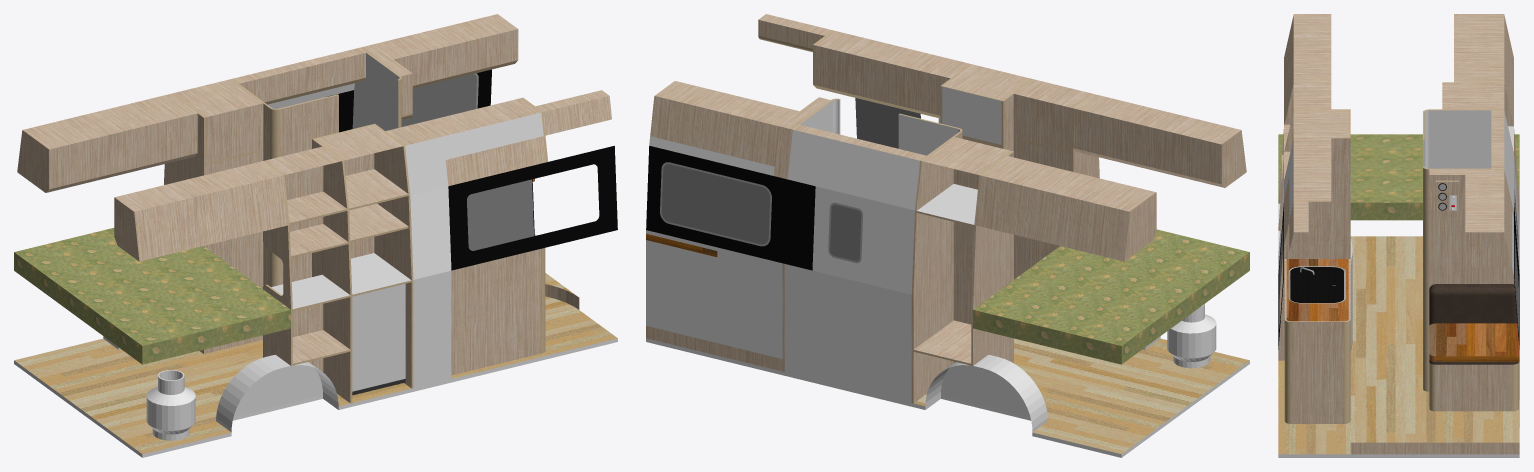
The model's file is karavan7510.glb.
3 views of the same model, side by side, from view 1: azimuth 30°, elevation 25°; view 2: azimuth 150°, elevation 25°; view 3: azimuth 270°, elevation 25° (orthographic). The views are drawn at different scales.
Parts seen in each view (by area): view 1: _(Loose Entity), G-Object.031, G-Object.093, C-TupGaz, _G-Object.002 (Loose Mesh), G-Object.003; view 2: _(Loose Entity), G-Object.031, _G-Object (Loose Mesh), C-TupGaz, G-Object.001; view 3: _(Loose Entity), G-Object.031, C-Component#6, G-Object.103.
Part boxes in pixels (x1,y1,x2,y2): _(Loose Entity): (14,14,617,403); G-Object.031: (14,296,617,457); G-Object.093: (352,285,405,391); C-TupGaz: (146,370,195,440); _G-Object.002 (Loose Mesh): (233,365,322,420); G-Object.003: (216,354,338,432); _(Loose Entity): (646,14,1249,403); G-Object.031: (646,338,1249,457); _G-Object (Loose Mesh): (941,365,1030,416); C-TupGaz: (1167,304,1216,368); G-Object.001: (925,354,1047,432); _(Loose Entity): (1278,14,1519,454); G-Object.031: (1278,236,1519,457); C-Component#6: (1290,267,1343,302); G-Object.103: (1288,266,1345,303).
Bounding box in the file's own units: 4 × 1.93 × 1.87.
39 materials, 11 textured.
